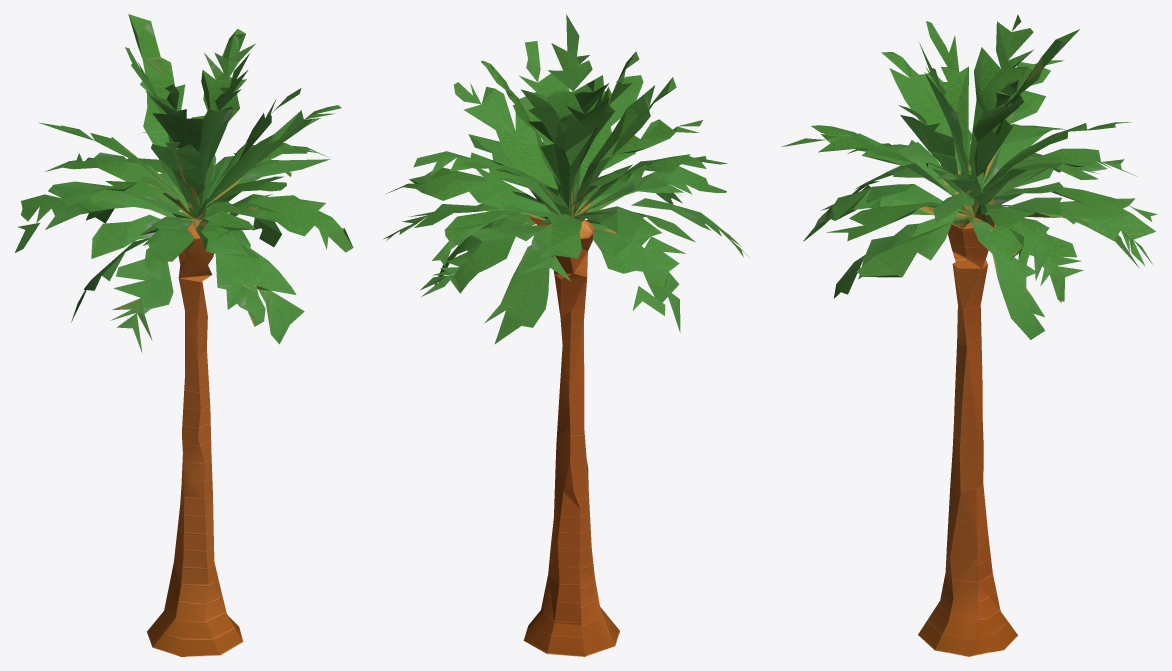
Rendered from palm.glb.
The picture shows the model from 3 angles, left to right: view 1: azimuth 30°, elevation 25°; view 2: azimuth 150°, elevation 25°; view 3: azimuth 270°, elevation 25°; orthographic projection. The views are drawn at different scales.
Size of the model in its own units: 0.9932 by 1.88 by 1.06.
Materials: 1 (1 with a texture image).
